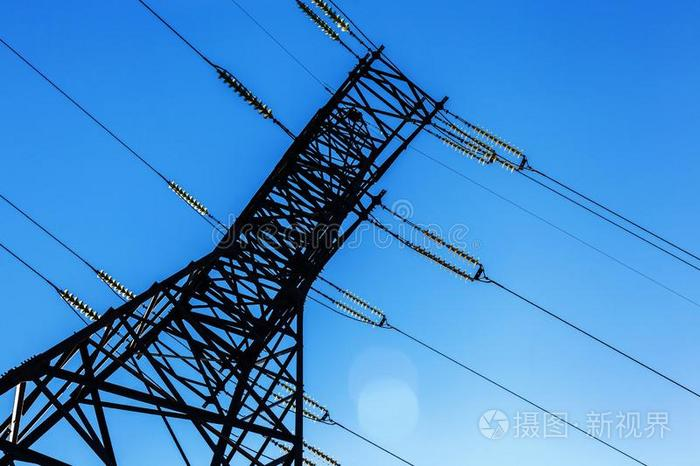insulator: (218, 69, 275, 120), (295, 1, 347, 42), (169, 180, 210, 216), (97, 268, 134, 300), (59, 290, 95, 320)
